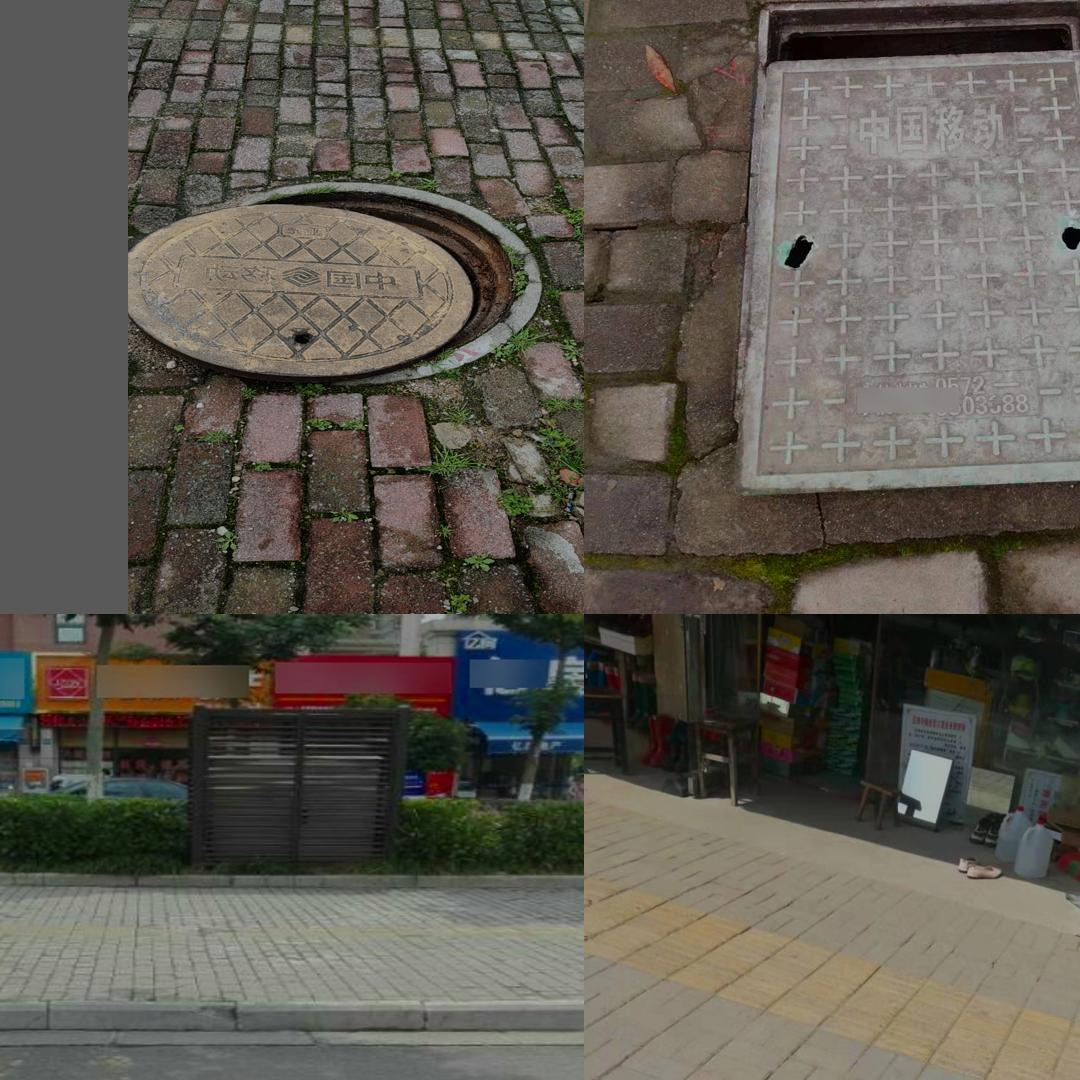uncovered: (735, 0, 1080, 495), (127, 182, 542, 384)
